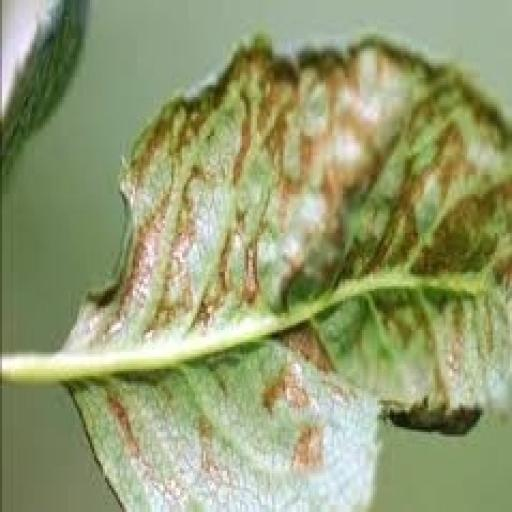thrip: (2, 39, 510, 510)
